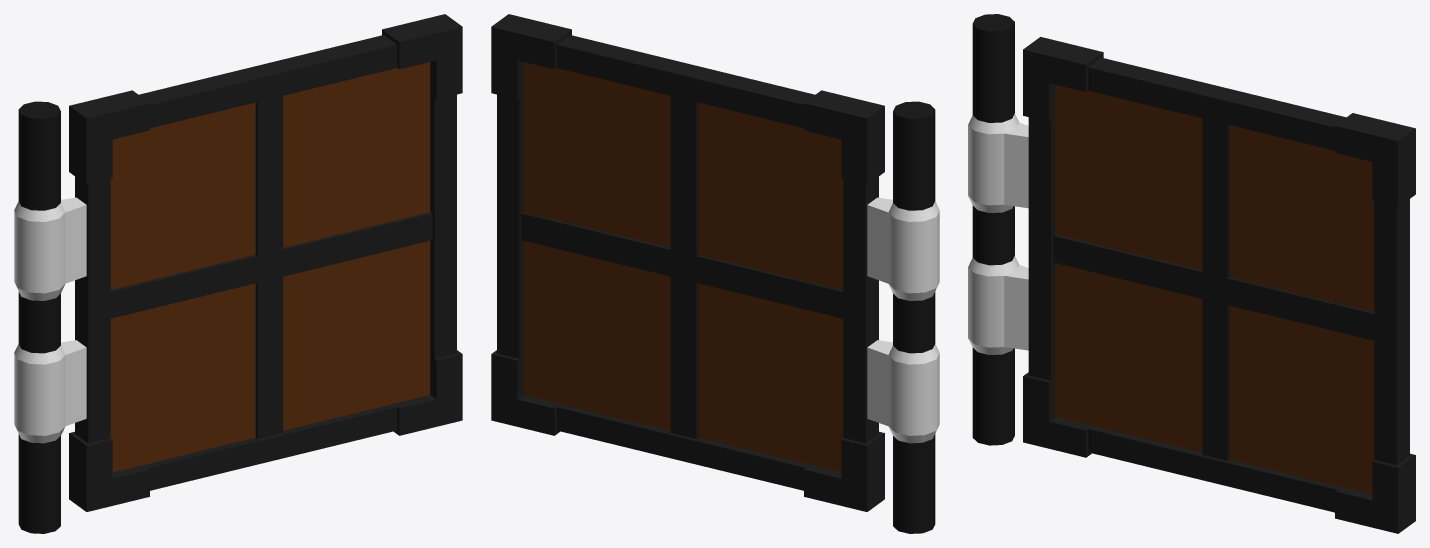
The model's file is Flipping_Platform.fbx.
3 views of the same model, side by side, from view 1: azimuth 30°, elevation 25°; view 2: azimuth 150°, elevation 25°; view 3: azimuth 330°, elevation 25° (orthographic).
Parts seen in each view (by area): view 1: Platform, Hindge, Pole; view 2: Platform, Hindge, Pole; view 3: Platform, Hindge, Pole.
Boxes of the visible parts, left/top/right/bottom form: Platform: left=69, top=14, right=462, bottom=511; Hindge: left=14, top=197, right=86, bottom=443; Pole: left=18, top=101, right=60, bottom=533; Platform: left=491, top=14, right=884, bottom=511; Hindge: left=867, top=197, right=939, bottom=443; Pole: left=893, top=101, right=935, bottom=533; Platform: left=1023, top=37, right=1415, bottom=533; Hindge: left=968, top=113, right=1028, bottom=354; Pole: left=972, top=14, right=1014, bottom=445.
Bounding box in the file's own units: 94.71 × 86.01 × 9.23.
